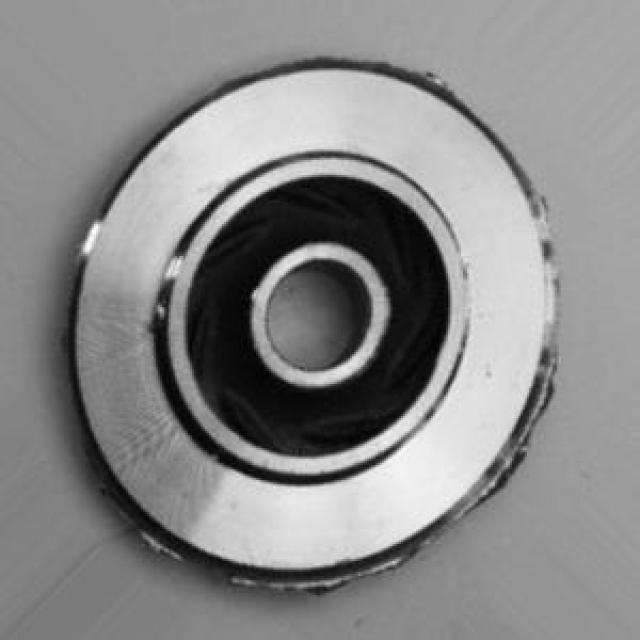Defect: (507, 374, 556, 477)
